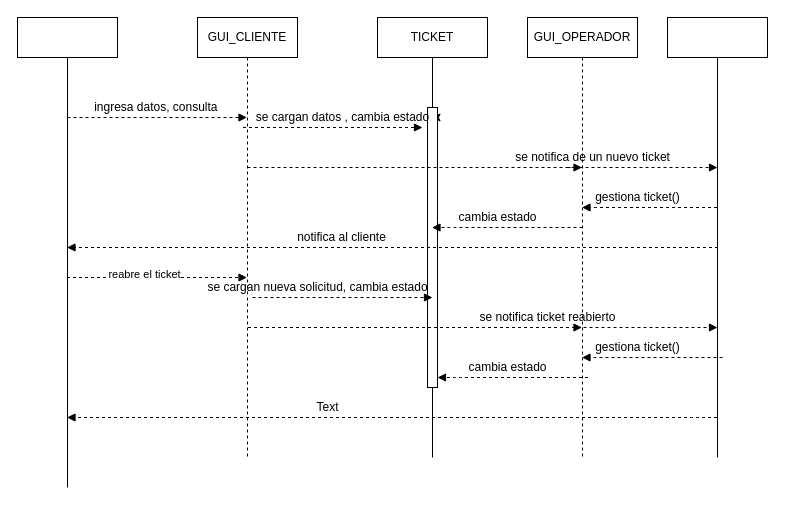
Some shapes in this 785 by 505 pixel diagram are drawn without their labels. Here are the shapes that lost their labels. From the top down, the box of each, then its label:
(16, 16, 118, 488): CLIENTE
(666, 16, 768, 458): OPERADOR
